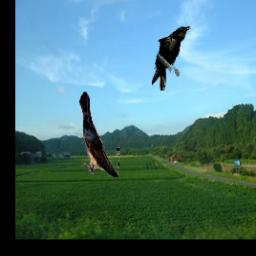Crow: (151, 26, 190, 91)
Swallow: (79, 91, 119, 177)
